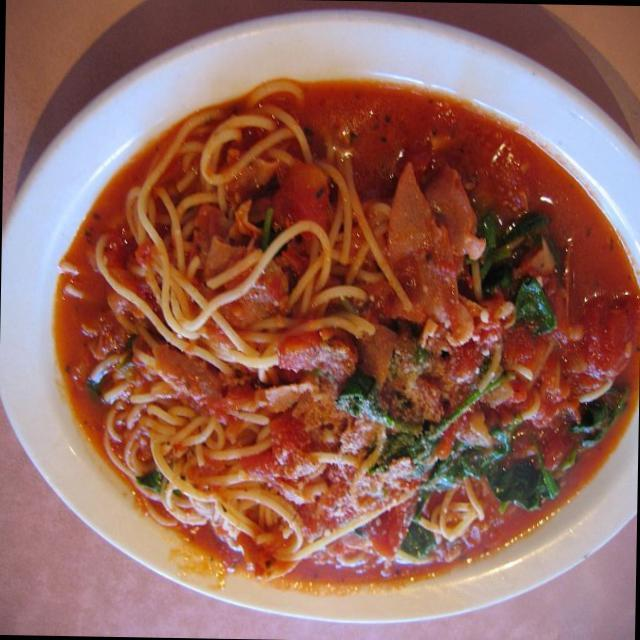Pasta: (41, 72, 640, 622)
